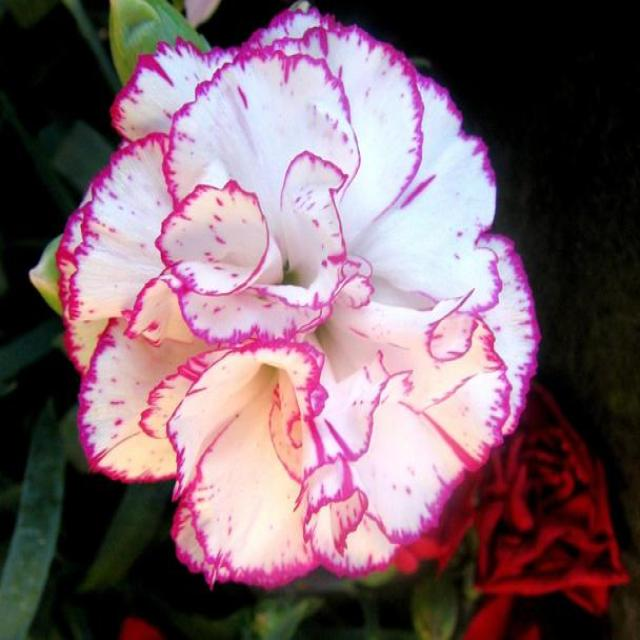carnation: (37, 1, 565, 575)
